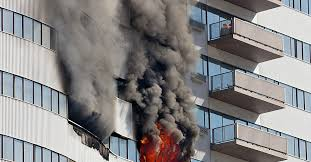smoke: (51, 1, 211, 152)
